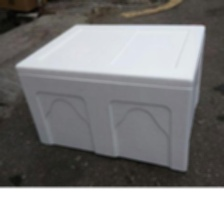foam_box: (11, 18, 211, 173)
